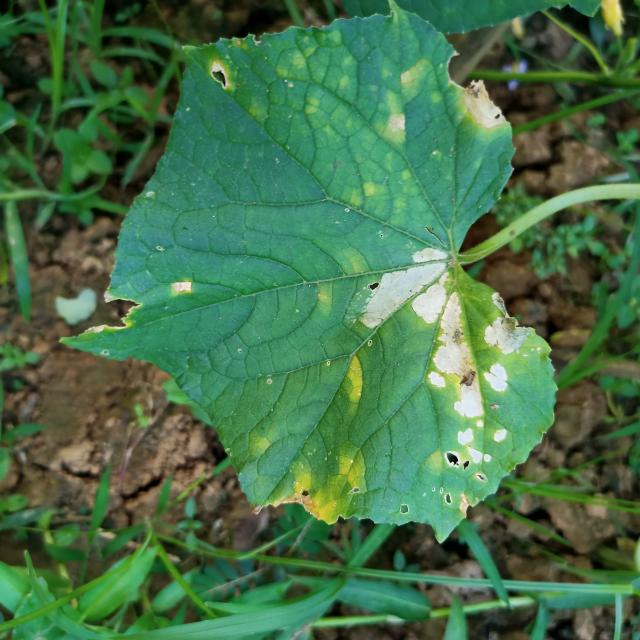disease_cucumber: (356, 238, 521, 503), (286, 437, 370, 532), (370, 55, 433, 147), (342, 355, 372, 416)
